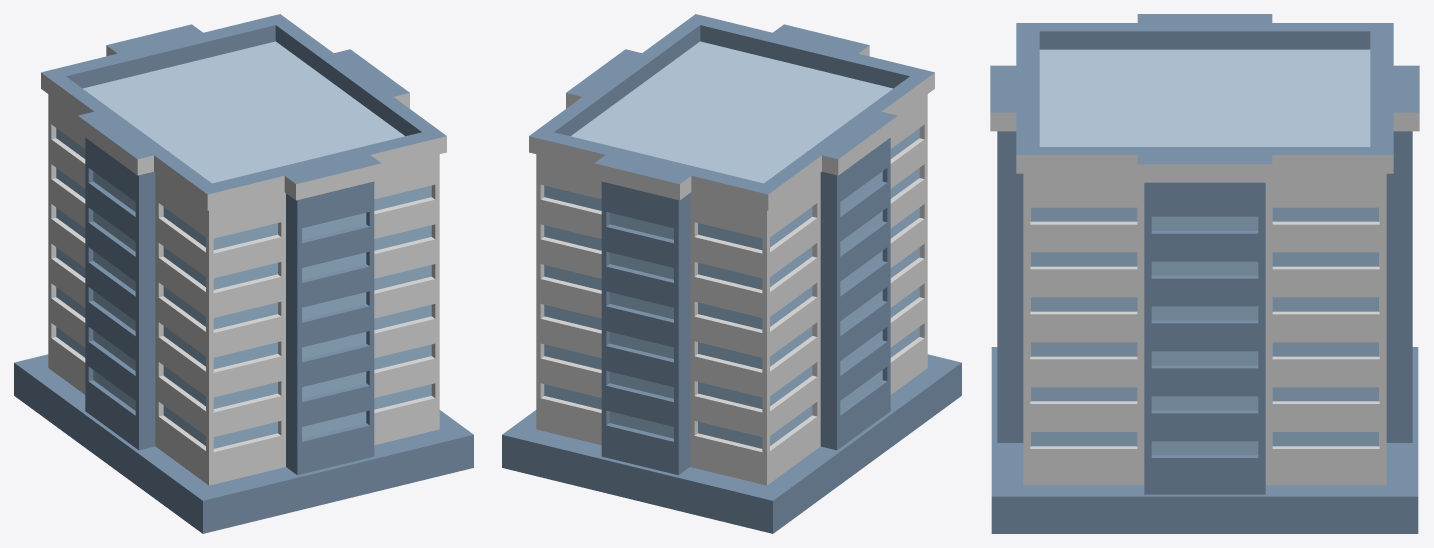
3 views of the same model, side by side, from view 1: azimuth 30°, elevation 25°; view 2: azimuth 150°, elevation 25°; view 3: azimuth 270°, elevation 25° (orthographic). The views are drawn at different scales.
Parts seen in each view (by area): view 1: Cube.009; view 2: Cube.009; view 3: Cube.009.
Boxes of the visible parts, bbox=[...] form: Cube.009: bbox=[14, 14, 473, 533]; Cube.009: bbox=[502, 14, 961, 533]; Cube.009: bbox=[990, 14, 1419, 533].
Size of the model in its own units: 330 by 379 by 399.
